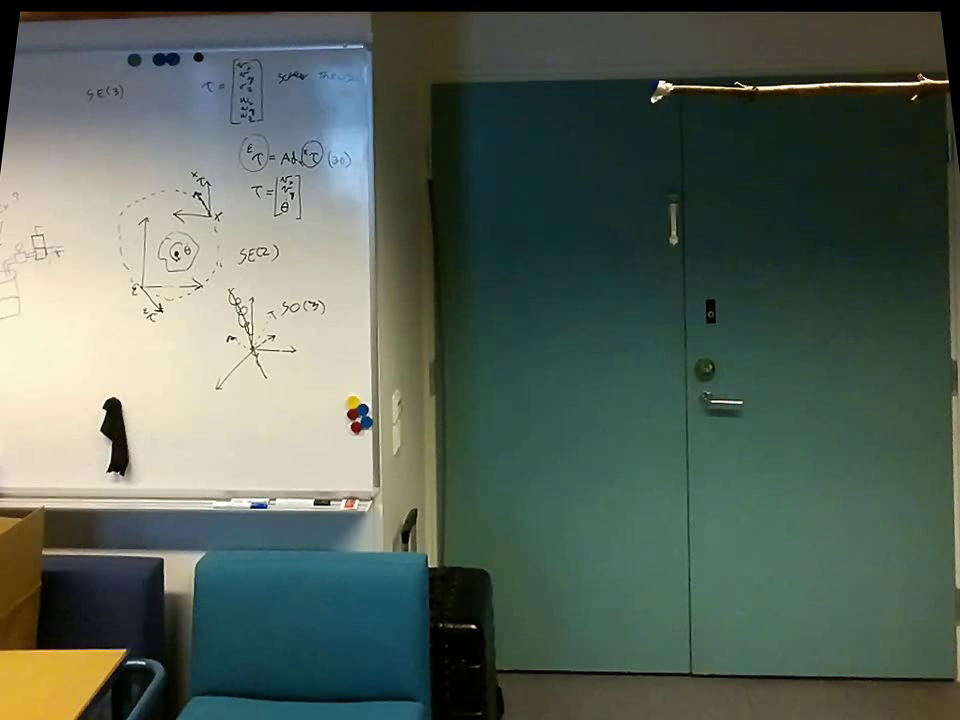aluminum_frame: (360, 37, 389, 508), (2, 480, 383, 514), (13, 34, 375, 64)
branch: (681, 67, 946, 112)
